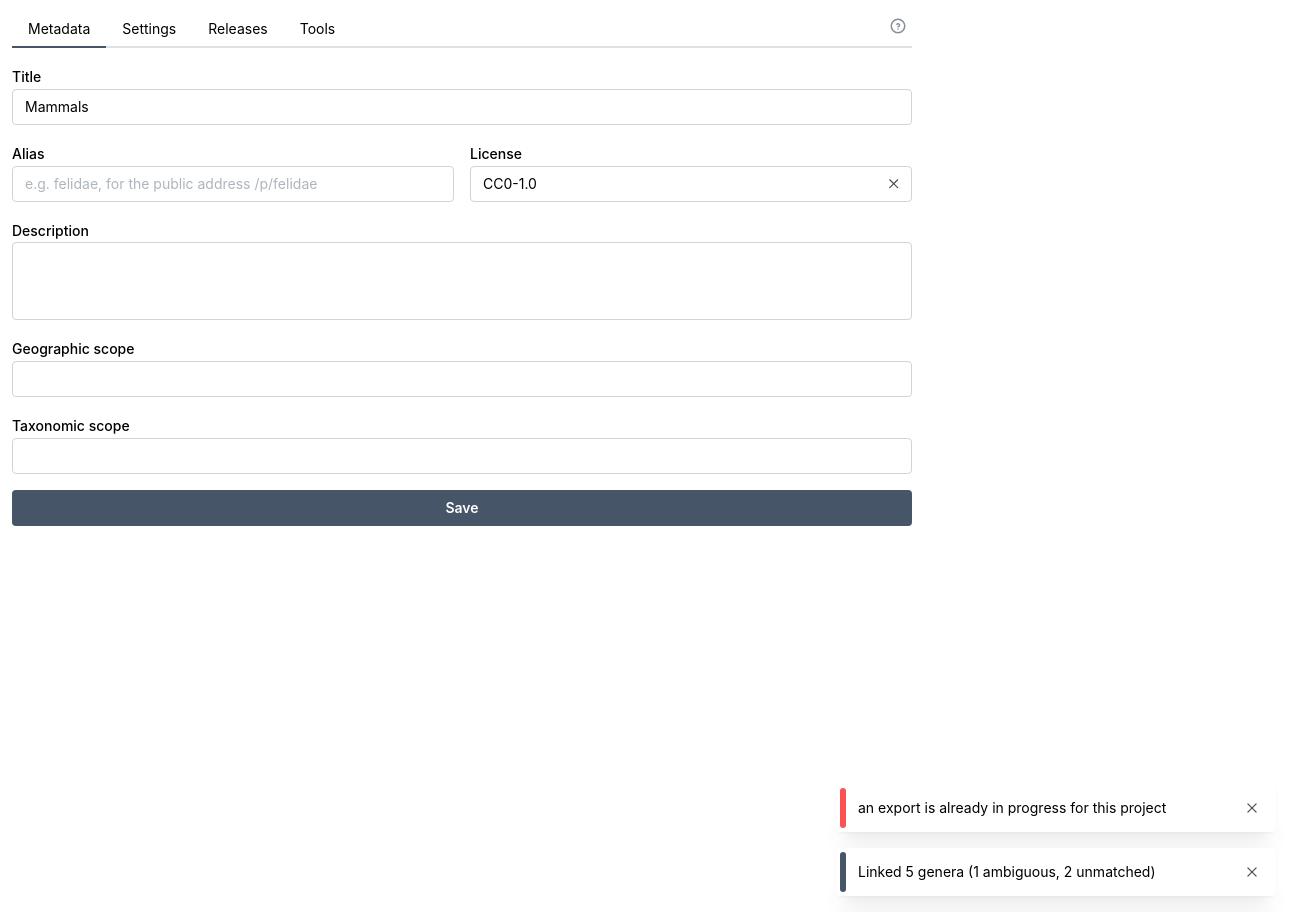
Test: owner can toggle public and publish a release
Expected: the field labelled "Title" holds "Mammals", [12,89,912,125]
Click the tab "Settings". click: (149, 30)
box: [106,12,192,48]
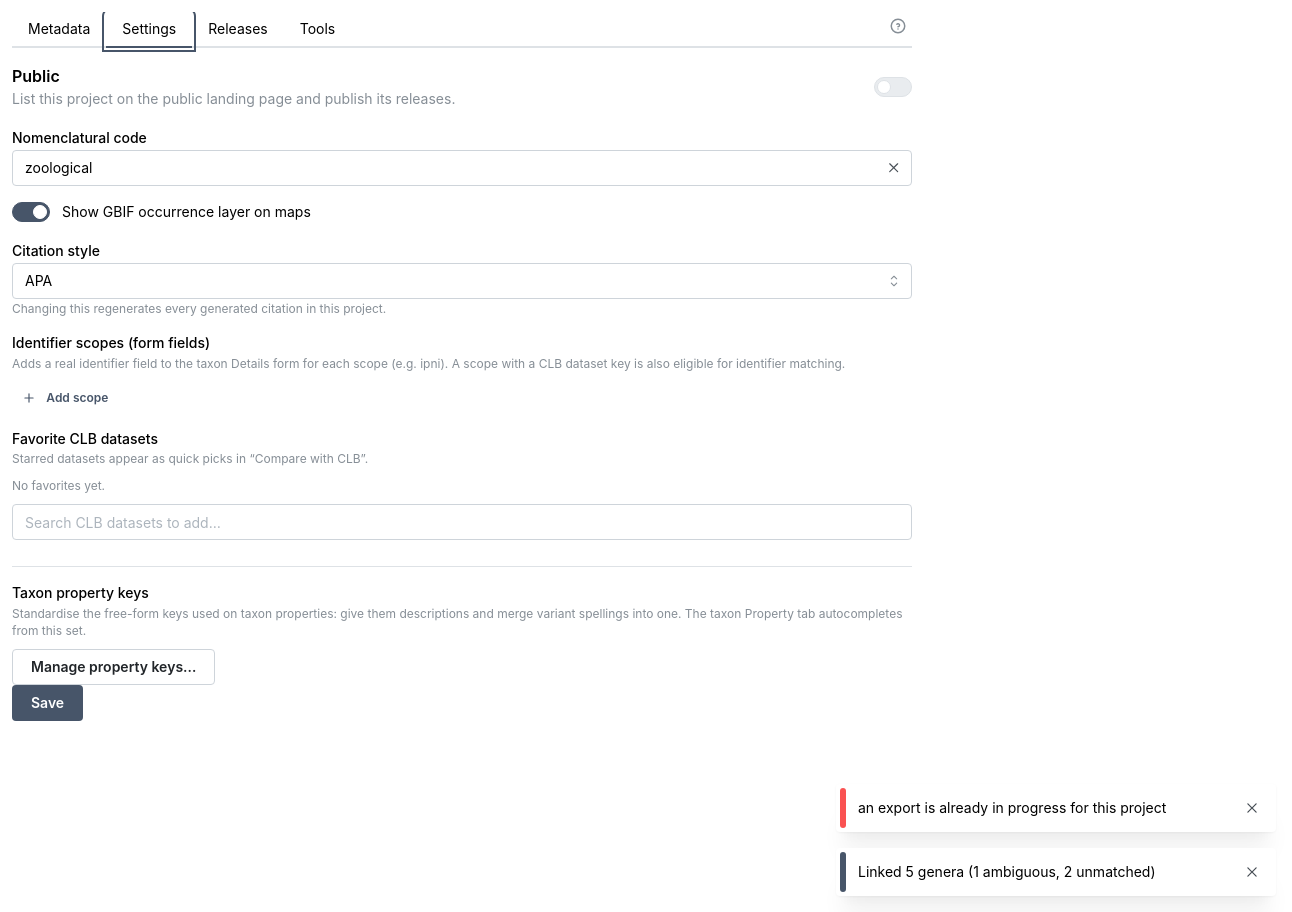
Expected: the switch named "Public" is not checked
Click the switch named "Public". click: (893, 86)
box: [874,76,912,96]
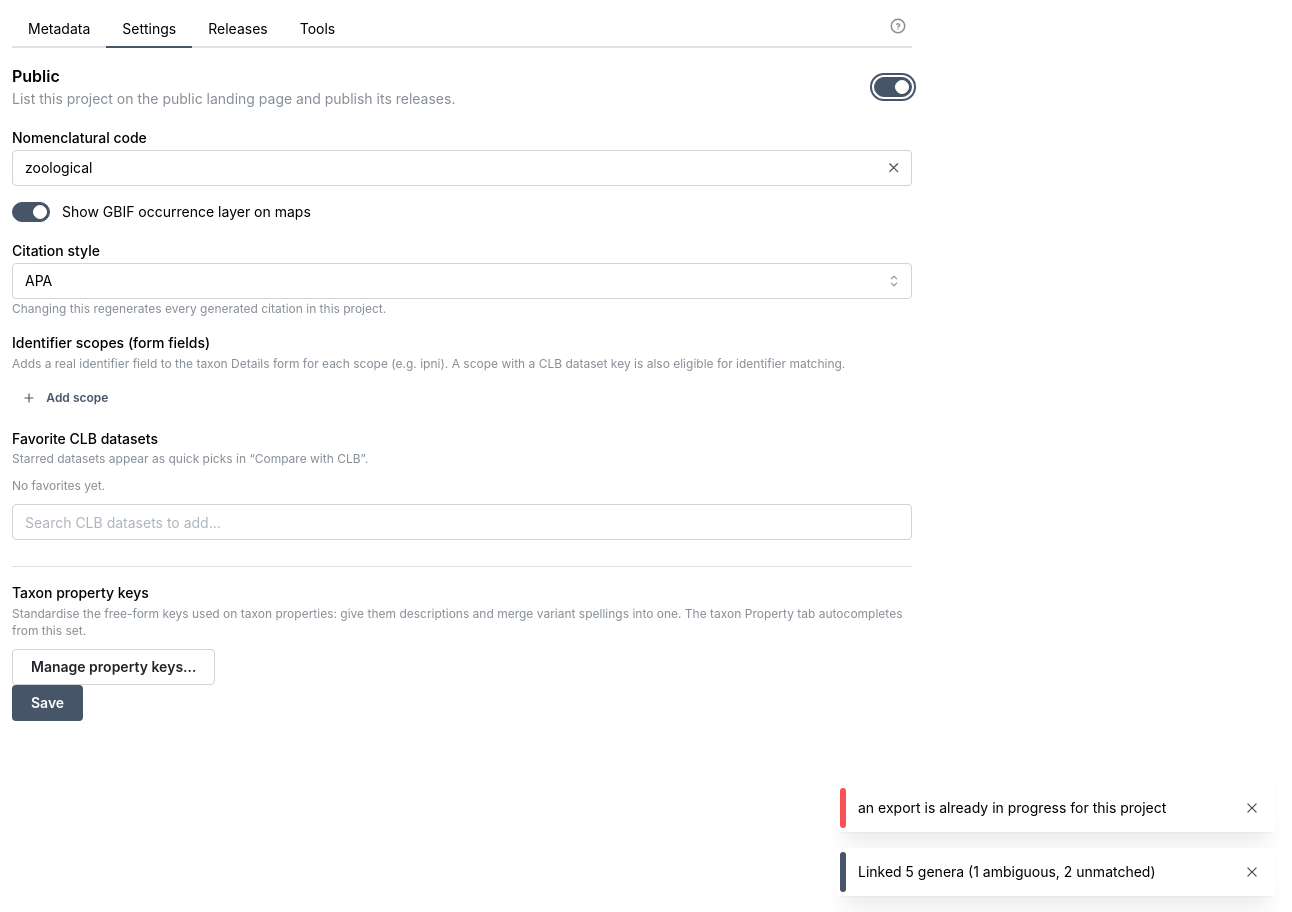
Expected: the switch named "Public" is checked, [874,76,912,96]
Click the tab "Releases". click: (238, 30)
box: [192,12,284,48]
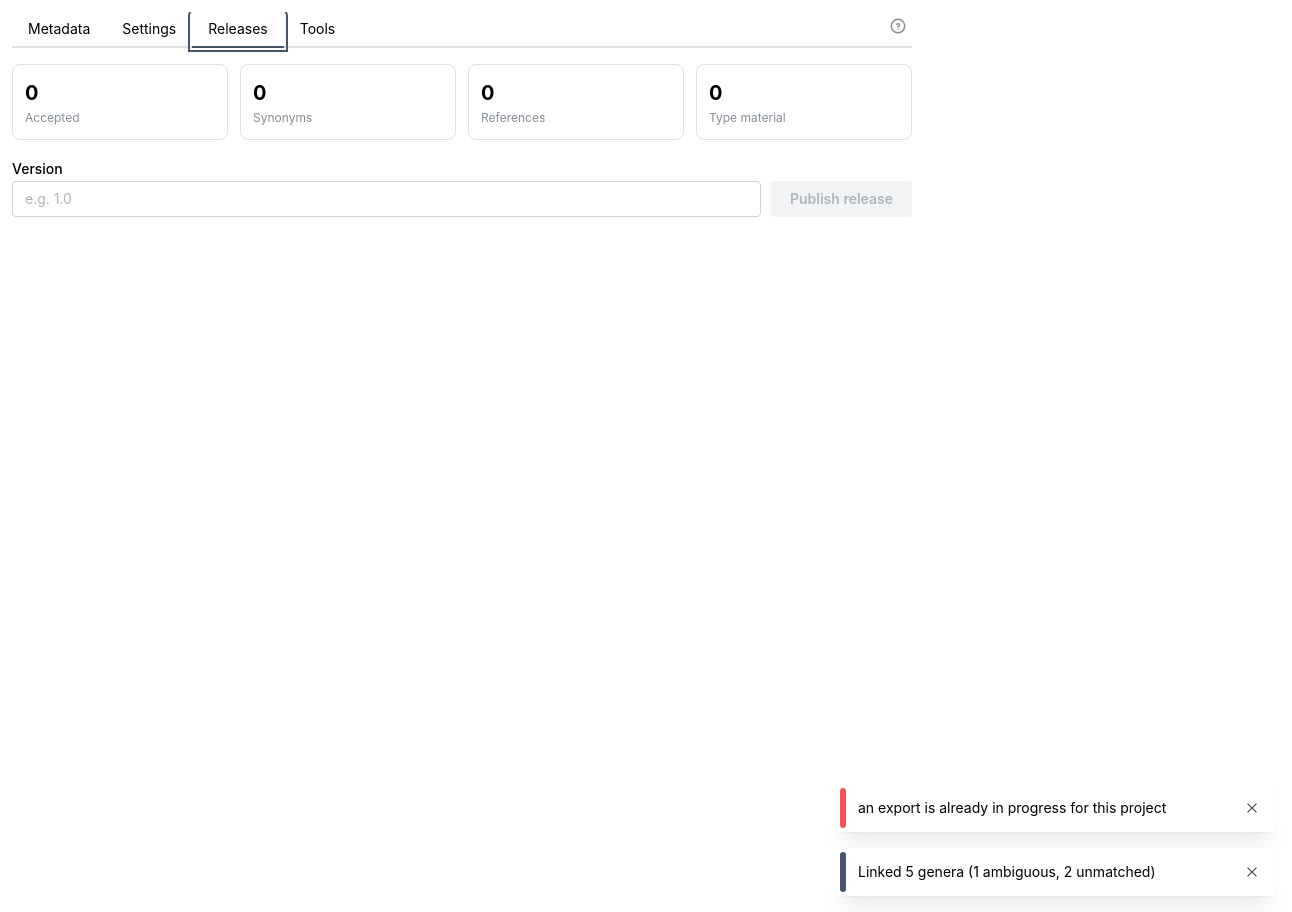
Type "1.0" into the field labelled "Version". click: (386, 199)
box: [12,181,761,217]
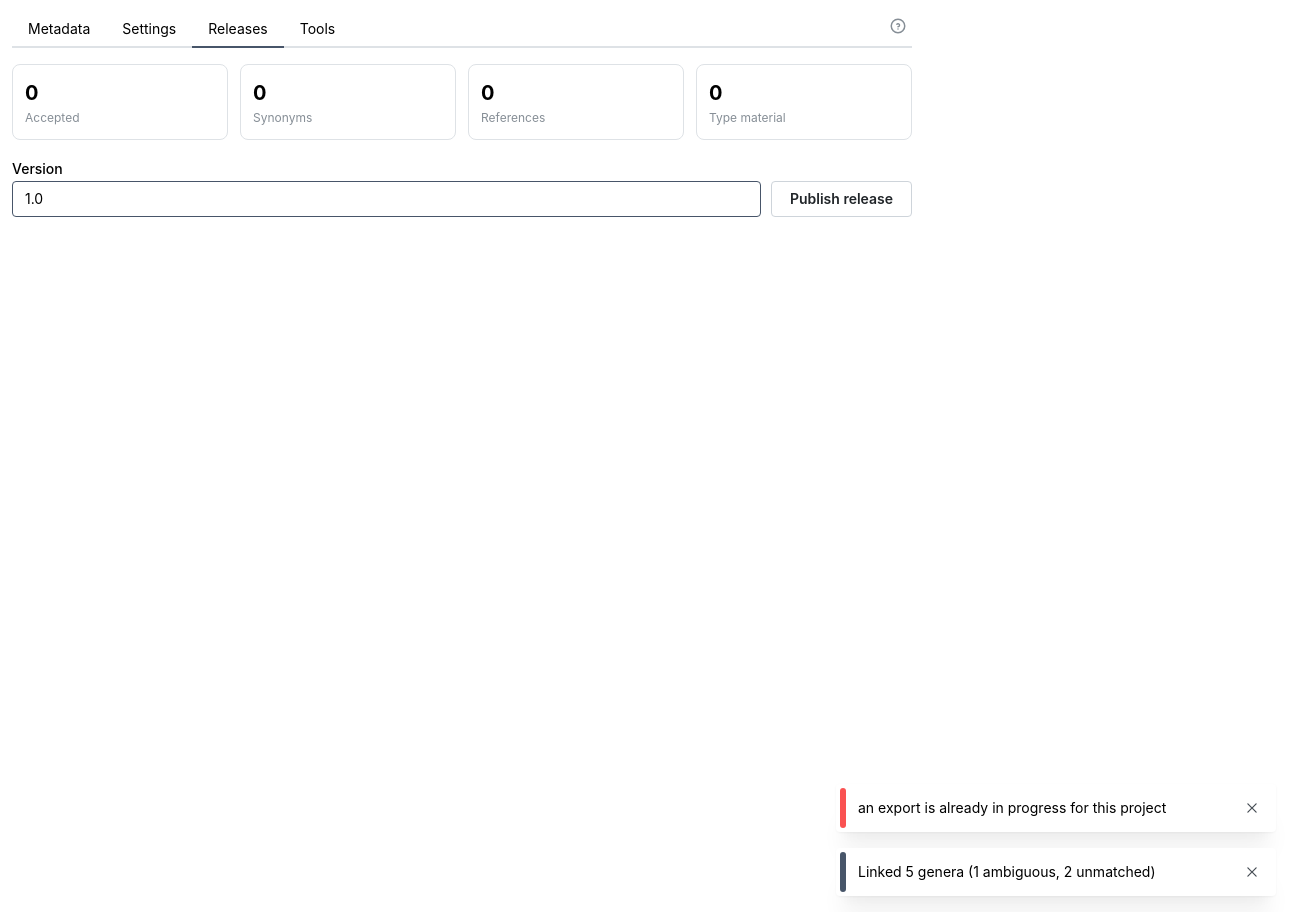
Click the button "Publish release". click: (841, 199)
box: [771,181,912,217]
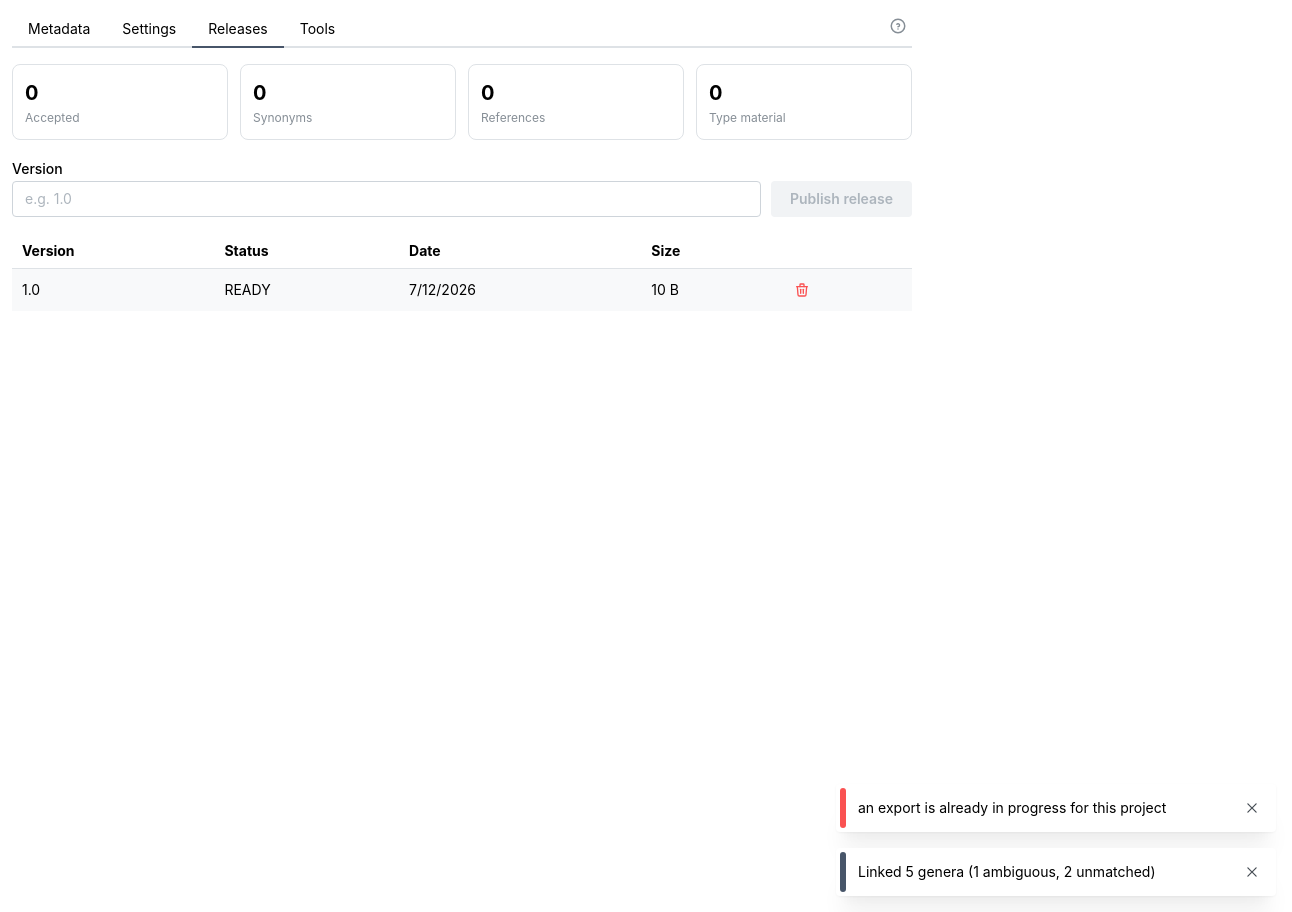
Expected: the text "READY" is shown, [214,269,399,311]
Expected: the text "1.0" is shown, [12,269,214,311]
